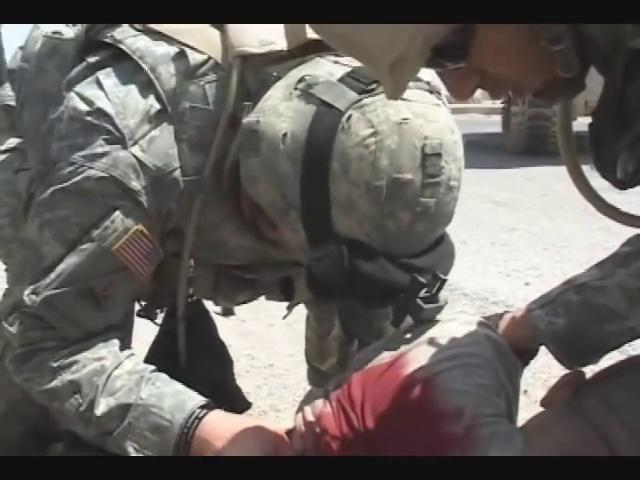Fire: (293, 355, 474, 456)
